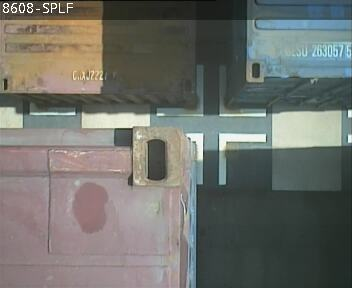groundmarker_1: (155, 65, 267, 117), (154, 133, 265, 185)
